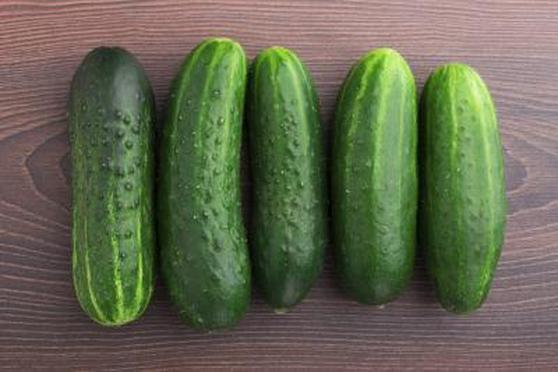cucumber: (159, 40, 257, 334), (66, 40, 159, 328), (330, 49, 420, 309), (251, 37, 333, 312), (423, 58, 503, 312)
